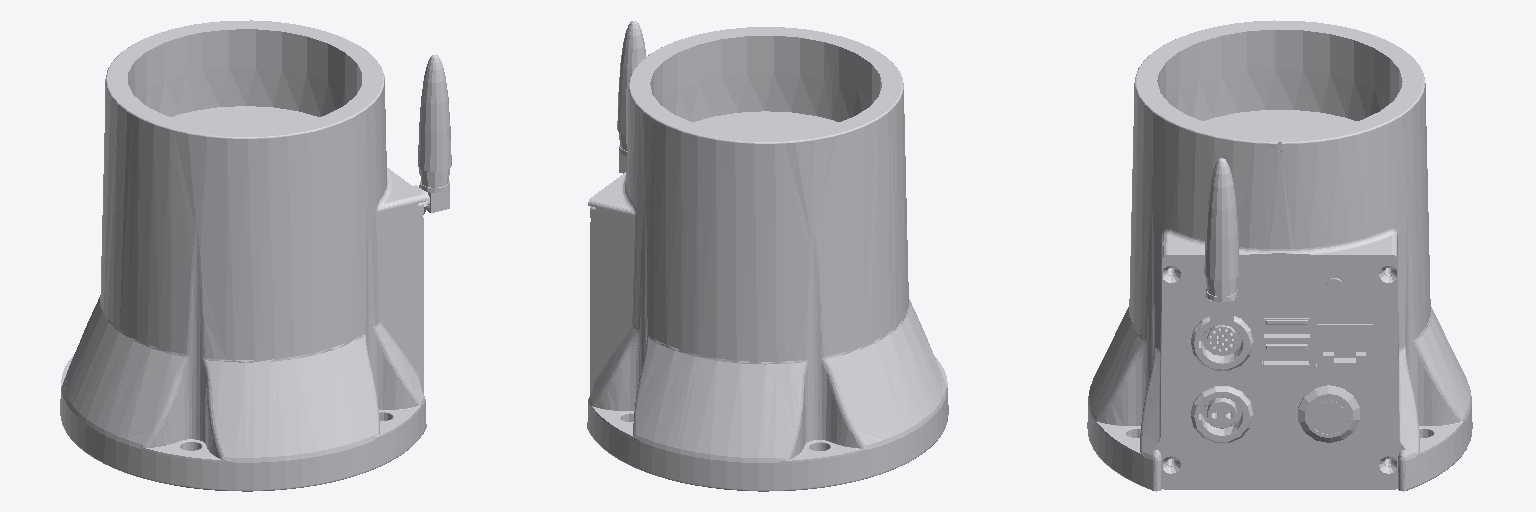
robot.urdf — RML-63-6F:
<?xml version="1.0" encoding="utf-8"?>
<!-- This URDF was automatically created by SolidWorks to URDF Exporter! Originally created by [author] ([email redacted]) 
     Commit Version: 1.6.0-1-g15f4949  Build Version: 1.6.7594.29634
     For more information, please see http://wiki.ros.org/sw_urdf_exporter -->
<robot
  name="RML-63-6F">
  <link
    name="base_link">
    <inertial>
      <origin
        xyz="0.0002051 -8.259E-05 0.043092"
        rpy="0 0 0" />
      <mass
        value="1.6314" />
      <inertia
        ixx="0.0022252"
        ixy="7.9005E-06"
        ixz="-7.7558E-05"
        iyy="0.0022156"
        iyz="5.9846E-06"
        izz="0.0018513" />
    </inertial>
    <visual>
      <origin
        xyz="0 0 0"
        rpy="0 0 0" />
      <geometry>
        <mesh
          filename="package://rm_description/meshes/RML63/base_link.STL" />
      </geometry>
      <material
        name="">
        <color
          rgba="0.86667 0.86667 0.8902 1" />
      </material>
    </visual>
    <collision>
      <origin
        xyz="0 0 0"
        rpy="0 0 0" />
      <geometry>
        <mesh
          filename="package://rm_description/meshes/RML63/base_link.STL" />
      </geometry>
    </collision>
  </link>
  <link
    name="Link_1">
    <inertial>
      <origin
        xyz="-0.030909 -0.0013023 -0.0053121"
        rpy="0 0 0" />
      <mass
        value="1.7668" />
      <inertia
        ixx="0.0014534"
        ixy="-0.00017578"
        ixz="0.0002802"
        iyy="0.0043772"
        iyz="1.7209E-05"
        izz="0.0040911" />
    </inertial>
    <visual>
      <origin
        xyz="0 0 0"
        rpy="0 0 0" />
      <geometry>
        <mesh
          filename="package://rm_description/meshes/RML63/Link_1.STL" />
      </geometry>
      <material
        name="">
        <color
          rgba="1 1 1 1" />
      </material>
    </visual>
    <collision>
      <origin
        xyz="0 0 0"
        rpy="0 0 0" />
      <geometry>
        <mesh
          filename="package://rm_description/meshes/RML63/Link_1.STL" />
      </geometry>
    </collision>
  </link>
  <joint
    name="joint_1"
    type="revolute">
    <origin
      xyz="0 0 0.1625"
      rpy="0 0 0" />
    <parent
      link="base_link" />
    <child
      link="Link_1" />
    <axis
      xyz="0 0 -1" />
    <limit
      lower="-3.107"
      upper="3.107"
      effort="100"
      velocity="1" />
  </joint>
  <link
    name="Link_2">
    <inertial>
      <origin
        xyz="0.16852 9.8217E-07 -0.077258"
        rpy="0 0 0" />
      <mass
        value="4.3415" />
      <inertia
        ixx="0.0028306"
        ixy="3.3846E-07"
        ixz="4.0484E-06"
        iyy="0.075435"
        iyz="-3.3974E-08"
        izz="0.075923" />
    </inertial>
    <visual>
      <origin
        xyz="0 0 0"
        rpy="0 0 0" />
      <geometry>
        <mesh
          filename="package://rm_description/meshes/RML63/Link_2.STL" />
      </geometry>
      <material
        name="">
        <color
          rgba="0.86667 0.86667 0.8902 1" />
      </material>
    </visual>
    <collision>
      <origin
        xyz="0 0 0"
        rpy="0 0 0" />
      <geometry>
        <mesh
          filename="package://rm_description/meshes/RML63/Link_2.STL" />
      </geometry>
    </collision>
  </link>
  <joint
    name="joint_2"
    type="revolute">
    <origin
      xyz="-0.086 0 0"
      rpy="-1.5708 -1.5708 0" />
    <parent
      link="Link_1" />
    <child
      link="Link_2" />
    <axis
      xyz="0 0 1" />
    <limit
      lower="-3.107"
      upper="3.107"
      effort="100"
      velocity="1" />
  </joint>
  <link
    name="Link_3">
    <inertial>
      <origin
        xyz="0.034488 -0.010948 -0.0056239"
        rpy="0 0 0" />
      <mass
        value="1.7286" />
      <inertia
        ixx="0.0014154"
        ixy="0.00068025"
        ixz="-0.00043307"
        iyy="0.0026049"
        iyz="0.00017201"
        izz="0.0028551" />
    </inertial>
    <visual>
      <origin
        xyz="0 0 0"
        rpy="0 0 0" />
      <geometry>
        <mesh
          filename="package://rm_description/meshes/RML63/Link_3.STL" />
      </geometry>
      <material
        name="">
        <color
          rgba="0.86667 0.86667 0.8902 1" />
      </material>
    </visual>
    <collision>
      <origin
        xyz="0 0 0"
        rpy="0 0 0" />
      <geometry>
        <mesh
          filename="package://rm_description/meshes/RML63/Link_3.STL" />
      </geometry>
    </collision>
  </link>
  <joint
    name="joint_3"
    type="revolute">
    <origin
      xyz="0.38 0 0"
      rpy="0 0 1.5708" />
    <parent
      link="Link_2" />
    <child
      link="Link_3" />
    <axis
      xyz="0 0 1" />
    <limit
      lower="-3.107"
      upper="2.531"
      effort="100"
      velocity="1" />
  </joint>
  <link
    name="Link_4">
    <inertial>
      <origin
        xyz="4.1778E-07 -0.030483 -0.19739"
        rpy="0 0 0" />
      <mass
        value="2.4734" />
      <inertia
        ixx="0.02602"
        ixy="-1.1659E-07"
        ixz="3.1323E-07"
        iyy="0.024375"
        iyz="0.0061661"
        izz="0.002958" />
    </inertial>
    <visual>
      <origin
        xyz="0 0 0"
        rpy="0 0 0" />
      <geometry>
        <mesh
          filename="package://rm_description/meshes/RML63/Link_4.STL" />
      </geometry>
      <material
        name="">
        <color
          rgba="0.86667 0.86667 0.8902 1" />
      </material>
    </visual>
    <collision>
      <origin
        xyz="0 0 0"
        rpy="0 0 0" />
      <geometry>
        <mesh
          filename="package://rm_description/meshes/RML63/Link_4.STL" />
      </geometry>
    </collision>
  </link>
  <joint
    name="joint_4"
    type="revolute">
    <origin
      xyz="0.069 -0.405 0"
      rpy="1.5708 0 0" />
    <parent
      link="Link_3" />
    <child
      link="Link_4" />
    <axis
      xyz="0 0 -1" />
    <limit
      lower="-3.107"
      upper="3.107"
      effort="100"
      velocity="1" />
  </joint>
  <link
    name="Link_5">
    <inertial>
      <origin
        xyz="5.2596E-06 0.025125 -0.0072574"
        rpy="0 0 0" />
      <mass
        value="0.93162" />
      <inertia
        ixx="0.0012563"
        ixy="-1.8115E-08"
        ixz="-2.4669E-09"
        iyy="0.0005379"
        iyz="-0.00017339"
        izz="0.0011134" />
    </inertial>
    <visual>
      <origin
        xyz="0 0 0"
        rpy="0 0 0" />
      <geometry>
        <mesh
          filename="package://rm_description/meshes/RML63/Link_5.STL" />
      </geometry>
      <material
        name="">
        <color
          rgba="0.86667 0.86667 0.8902 1" />
      </material>
    </visual>
    <collision>
      <origin
        xyz="0 0 0"
        rpy="0 0 0" />
      <geometry>
        <mesh
          filename="package://rm_description/meshes/RML63/Link_5.STL" />
      </geometry>
    </collision>
  </link>
  <joint
    name="joint_5"
    type="revolute">
    <origin
      xyz="0 0 0"
      rpy="1.5708 0 3.1416" />
    <parent
      link="Link_4" />
    <child
      link="Link_5" />
    <axis
      xyz="0 0 -1" />
    <limit
      lower="-3.107"
      upper="3.107"
      effort="100"
      velocity="1" />
  </joint>
  <link
    name="Link_6">
    <inertial>
      <origin
        xyz="-3.305E-05 -7.0431E-06 -0.023738"
        rpy="0 0 0" />
      <mass
        value="0.3056" />
      <inertia
        ixx="0.00011383"
        ixy="-3.6531E-08"
        ixz="-1.1422E-07"
        iyy="0.00011469"
        iyz="4.3479E-08"
        izz="0.00012619" />
    </inertial>
    <visual>
      <origin
        xyz="0 0 0"
        rpy="0 0 0" />
      <geometry>
        <mesh
          filename="package://rm_description/meshes/RML63/Link_6.STL" />
      </geometry>
      <material
        name="">
        <color
          rgba="0.86667 0.86667 0.8902 1" />
      </material>
    </visual>
    <collision>
      <origin
        xyz="0 0 0"
        rpy="0 0 0" />
      <geometry>
        <mesh
          filename="package://rm_description/meshes/RML63/Link_6.STL" />
      </geometry>
    </collision>
  </link>
  <joint
    name="joint_6"
    type="revolute">
    <origin
      xyz="0 0.1322 0"
      rpy="1.5708 0 3.1416" />
    <parent
      link="Link_5" />
    <child
      link="Link_6" />
    <axis
      xyz="0 0 -1" />
    <limit
      lower="-3.14"
      upper="3.14"
      effort="100"
      velocity="1" />
  </joint>
</robot>

--- What the picture shows (computed from the rendered views, not written in the file) ---
3 views of the same robot in one strip: view 1: azimuth 30°, elevation 25°; view 2: azimuth 150°, elevation 25°; view 3: azimuth 270°, elevation 25° (orthographic).
Robot: RML-63-6F — 7 links, 6 joints (6 revolute); root link base_link; default pose: all joints at 0.
Links seen in each view (by area): view 1: base_link; view 2: base_link; view 3: base_link.
Boxes of the visible links, box(x1,y1,x2,y2) form: base_link: box(60, 20, 451, 491); base_link: box(587, 21, 948, 491); base_link: box(1087, 20, 1472, 491).
Size in the robot's own frame: 0.1156 by 0.1099 by 0.1112 metres.
1 mesh visuals loaded from 7 distinct referenced files (1 binary STL); not drawn: 6 (reference not matched to a file when rendering).